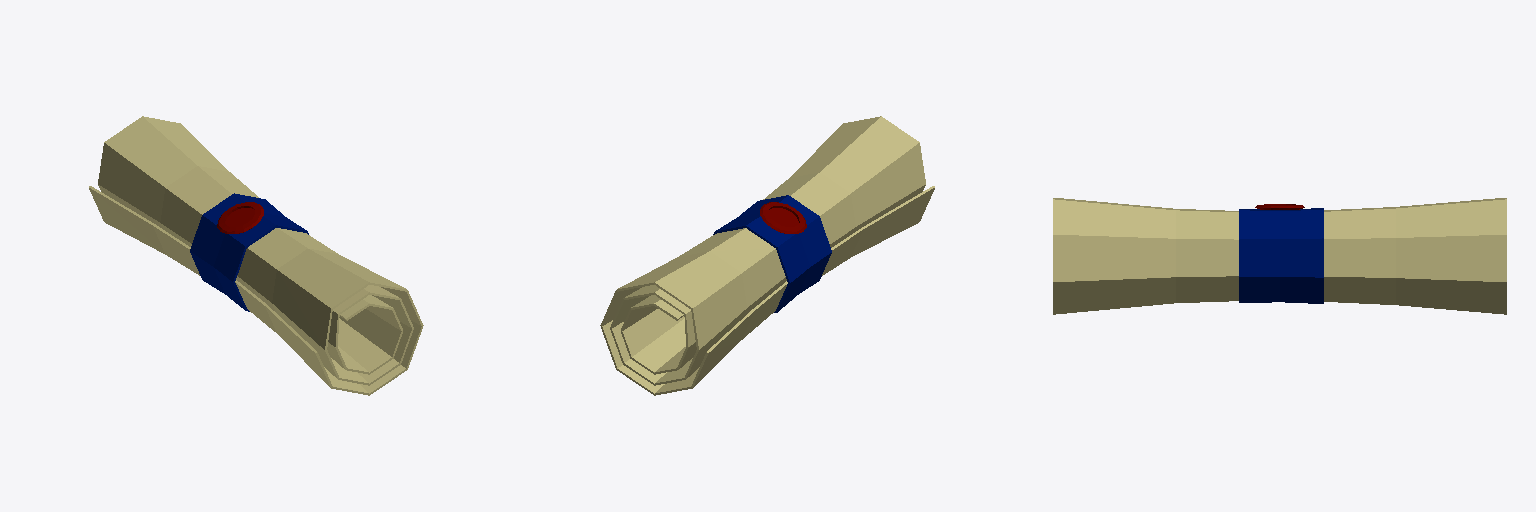
The model's file is scroll_test.obj.
3 renders of one model, left to right at view 1: azimuth 30°, elevation 25°; view 2: azimuth 150°, elevation 25°; view 3: azimuth 270°, elevation 25°, orthographic.
Visible parts, largest first — view 1: polySurface2, polySurface1; view 2: polySurface2, polySurface1; view 3: polySurface2.
Boxes of the visible parts, x1,y1,x2,y2 form: polySurface2: [89, 116, 423, 395]; polySurface1: [217, 202, 263, 233]; polySurface2: [600, 116, 934, 395]; polySurface1: [760, 202, 806, 233]; polySurface2: [1053, 198, 1506, 314].
Bounding box in the file's own units: 0.5362 × 0.5362 × 1.95.